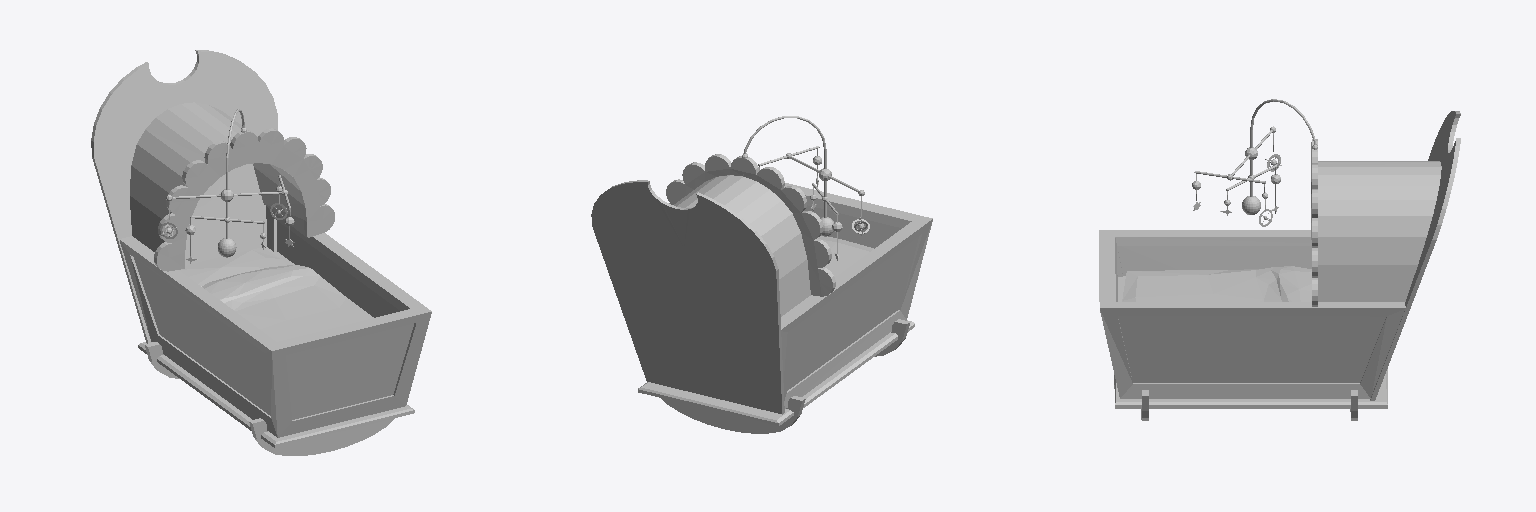
The model's file is Doctors_Crib.obj.
3 renders of one model, left to right at view 1: azimuth 30°, elevation 25°; view 2: azimuth 150°, elevation 25°; view 3: azimuth 270°, elevation 25°, orthographic.
Parts seen in each view (by area): view 1: DoctorsCrib, DoctorsCribBlanket, DoctorsCribPillow, DoctorsCribToy; view 2: DoctorsCrib, DoctorsCribToy, DoctorsCribBlanket; view 3: DoctorsCrib, DoctorsCribBlanket, DoctorsCribToy.
Part boxes in pixels (x1,y1,x2,y2): DoctorsCrib: (91,50,431,455); DoctorsCribBlanket: (202,265,373,341); DoctorsCribPillow: (179,247,294,286); DoctorsCribToy: (160,109,294,263); DoctorsCrib: (591,154,932,433); DoctorsCribToy: (742,116,869,260); DoctorsCribBlanket: (818,236,873,276); DoctorsCrib: (1099,111,1460,420); DoctorsCribBlanket: (1122,266,1311,301); DoctorsCribToy: (1192,99,1317,226).
Size of the model in its own units: 1.67 by 2.39 by 2.68.